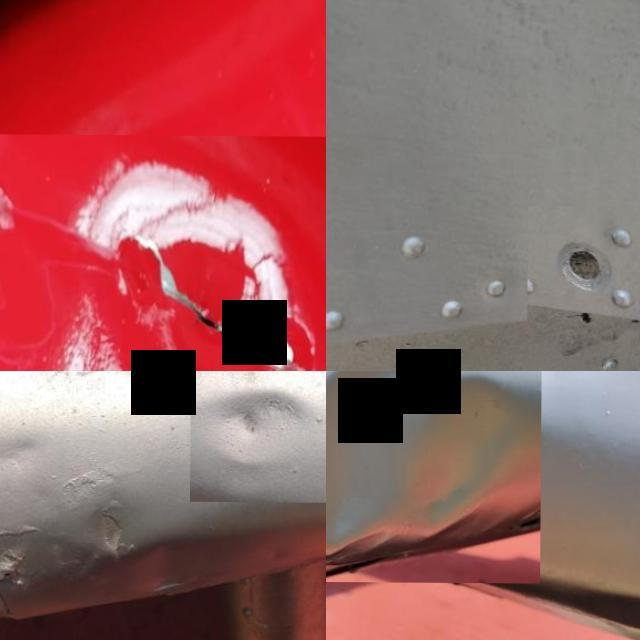Crack: (0, 134, 326, 371)
Dent: (326, 371, 542, 583), (38, 463, 205, 615), (190, 371, 326, 502), (604, 434, 640, 622)
Missing_Fastener: (527, 205, 640, 322)
